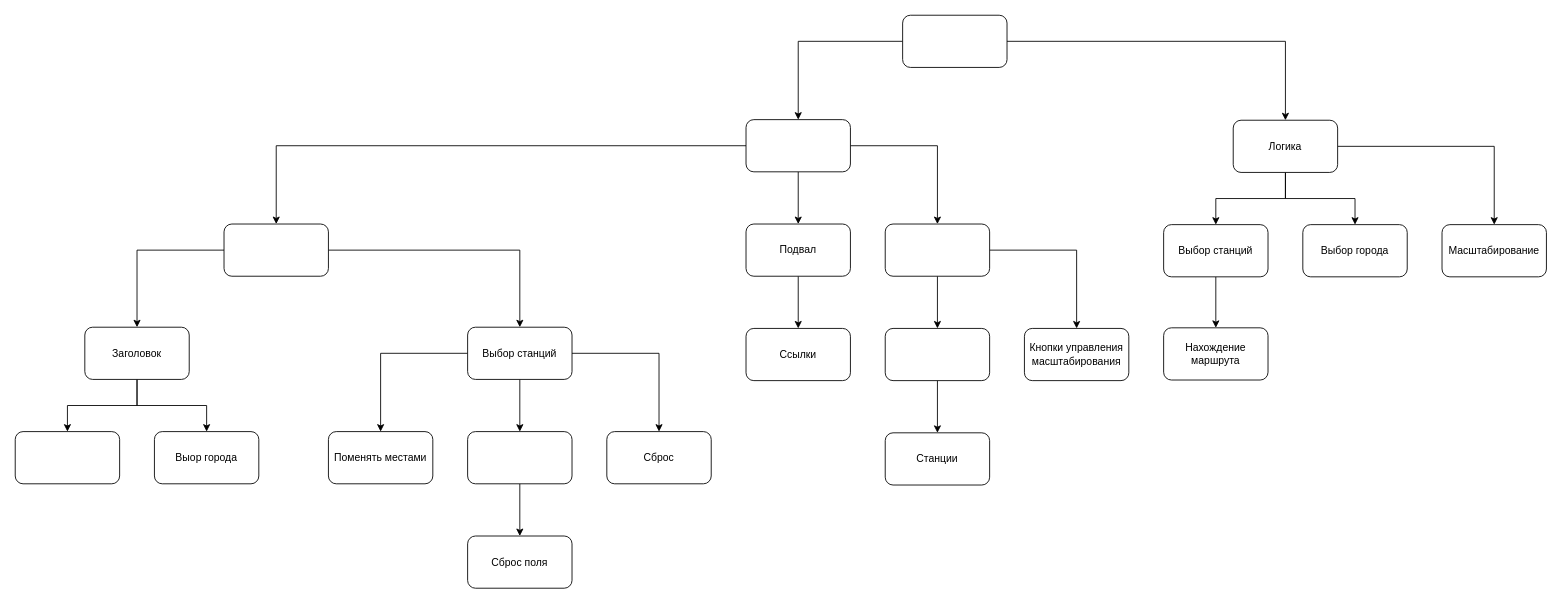
The diagram is 1562 pixels wide and 604 high, and some of its shapes have lost their labels. The shapes that lost their labels are listed below. From the top down, each one's box as (x1, y1, x2, y2) in pixels, then its label:
(902, 14, 1007, 67): Приложение
(745, 119, 850, 172): Интерфейс
(223, 223, 328, 276): Боковая панель
(884, 223, 990, 276): Схема метро
(884, 328, 990, 381): Схема
(14, 431, 120, 484): Ссылка на Яндекс
(467, 431, 572, 484): Текстовые поля для ввода
